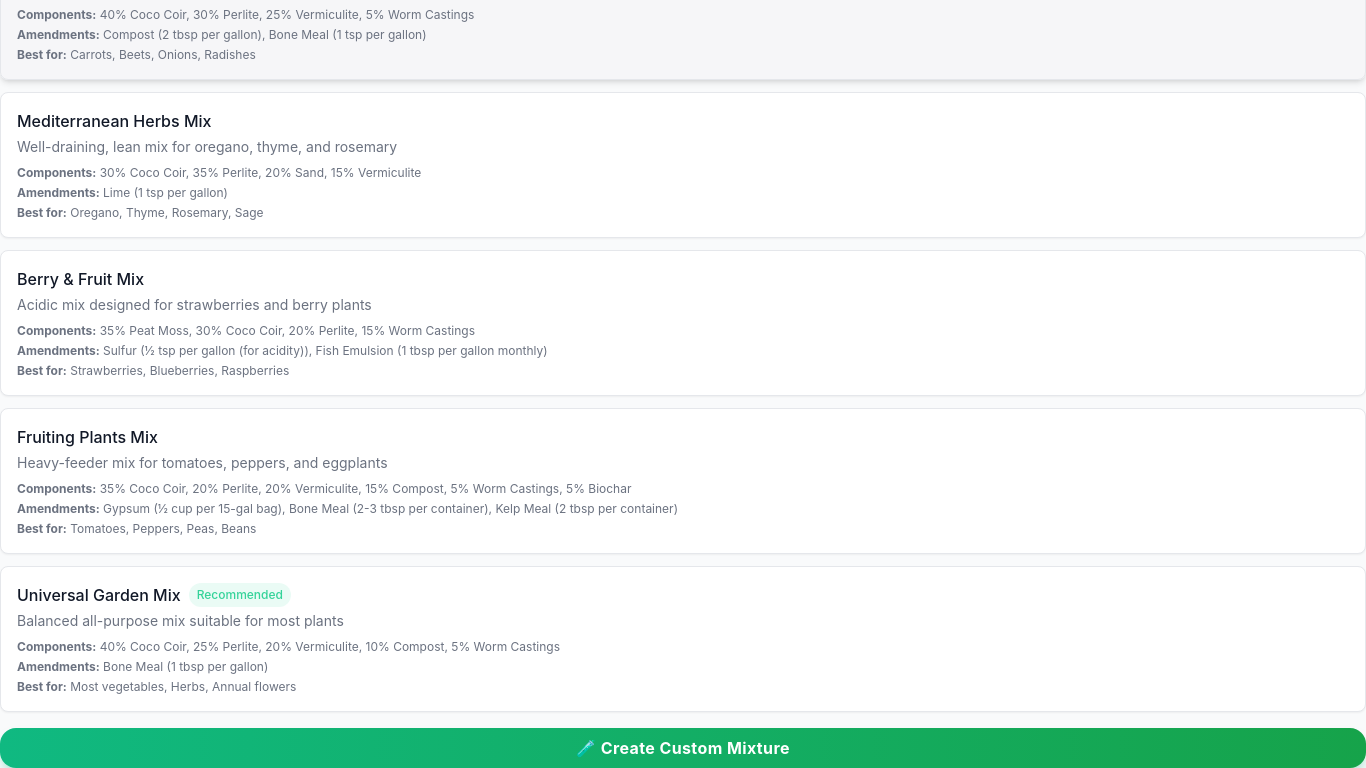
Test: SoilMixtureSelector › Custom Mixture Functionality › switches to custom mode when button clicked
(page scrolled)
What coordinates should you click on to do the following:
click the button "🧪 Create Custom Mixture"
I would click on:
 (683, 748)
Its box is [0,728,1365,767].
(page scrolled)
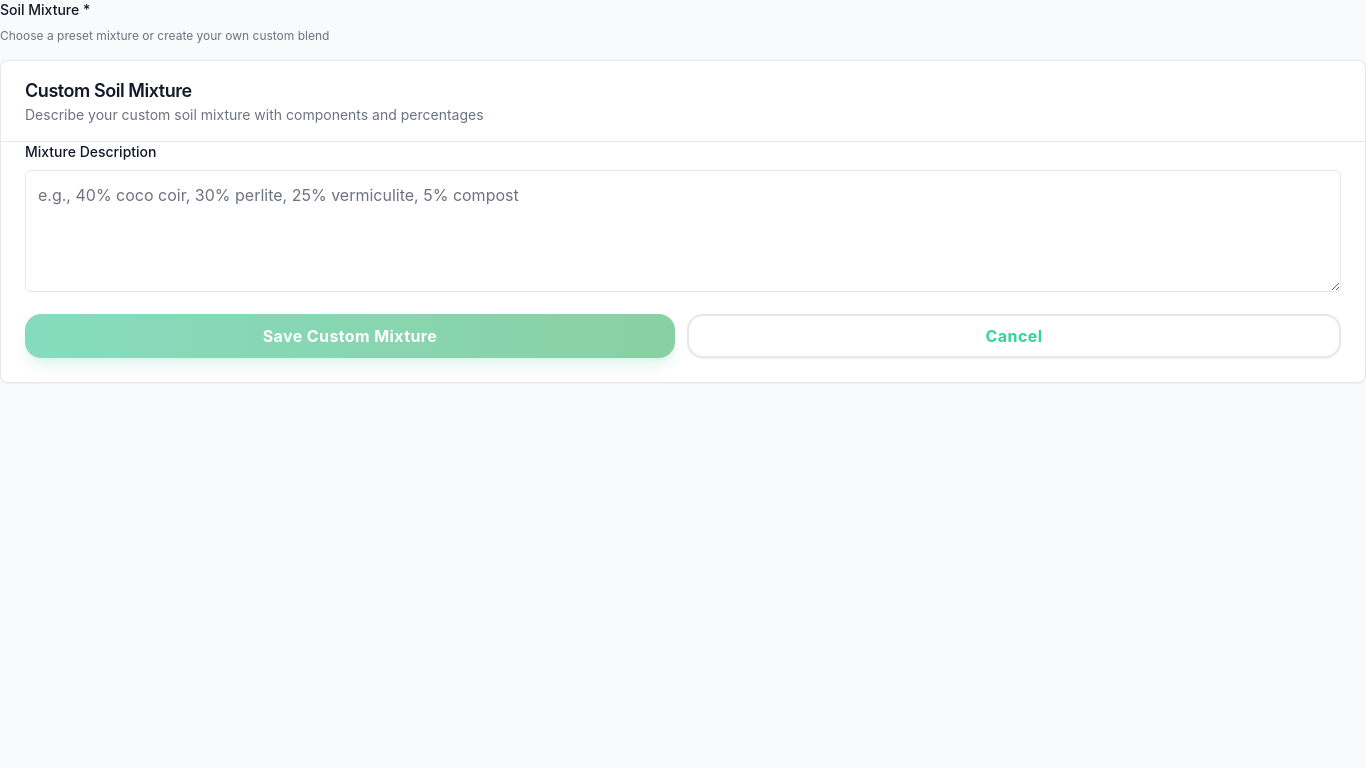
expect the heading "Custom Soil Mixture" is shown: met, box [25,80,192,101]
expect the text "Mixture Description" is shown: met, box [25,143,156,160]
expect the text box with placeholder "40% coco coir" is shown: met, box [25,170,1341,292]
